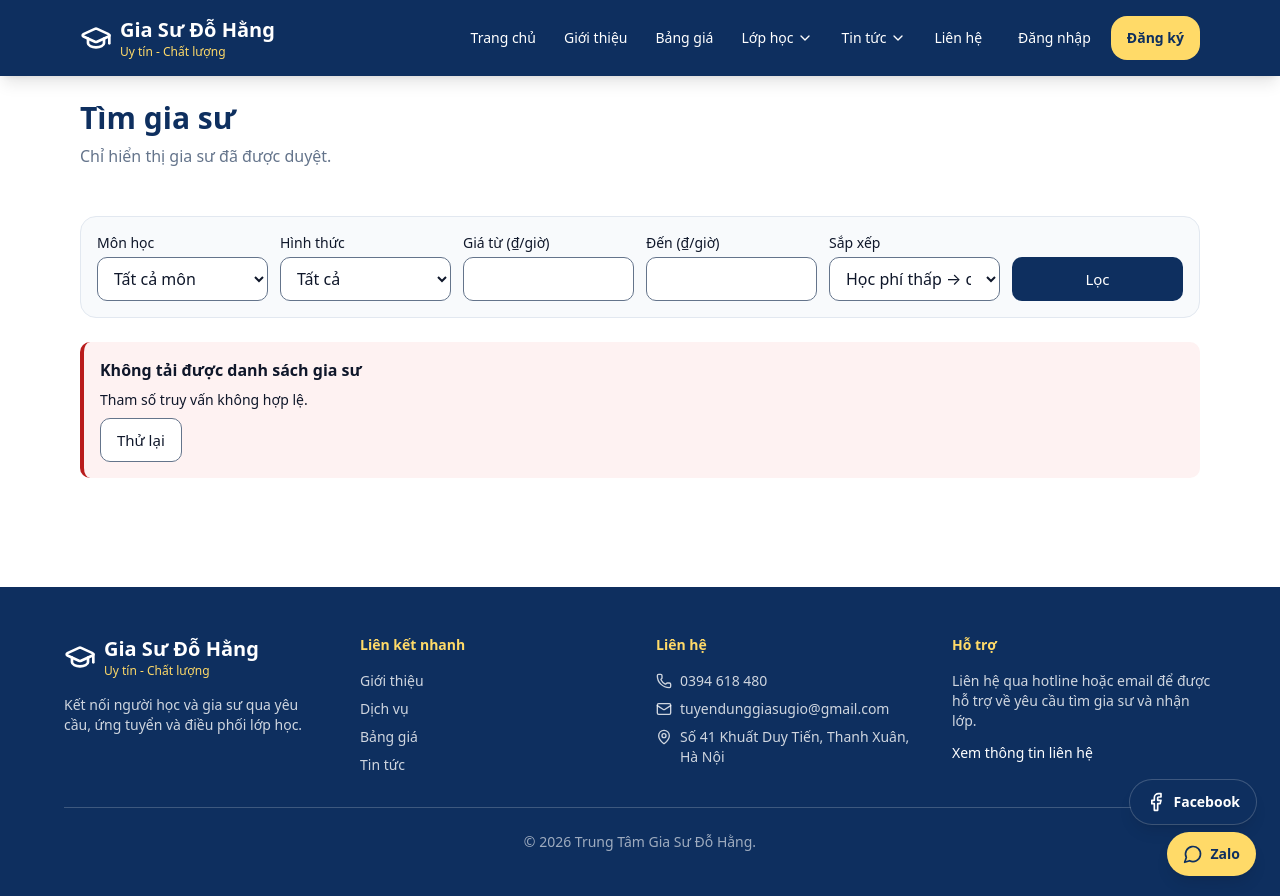
Test: TutorsPage › shows an error with retry
Expected: the text "Không tải được danh sách gia sư" is shown, [100,359,362,381]
Click the button "Thử lại" at (141, 440), box [100,418,182,462]
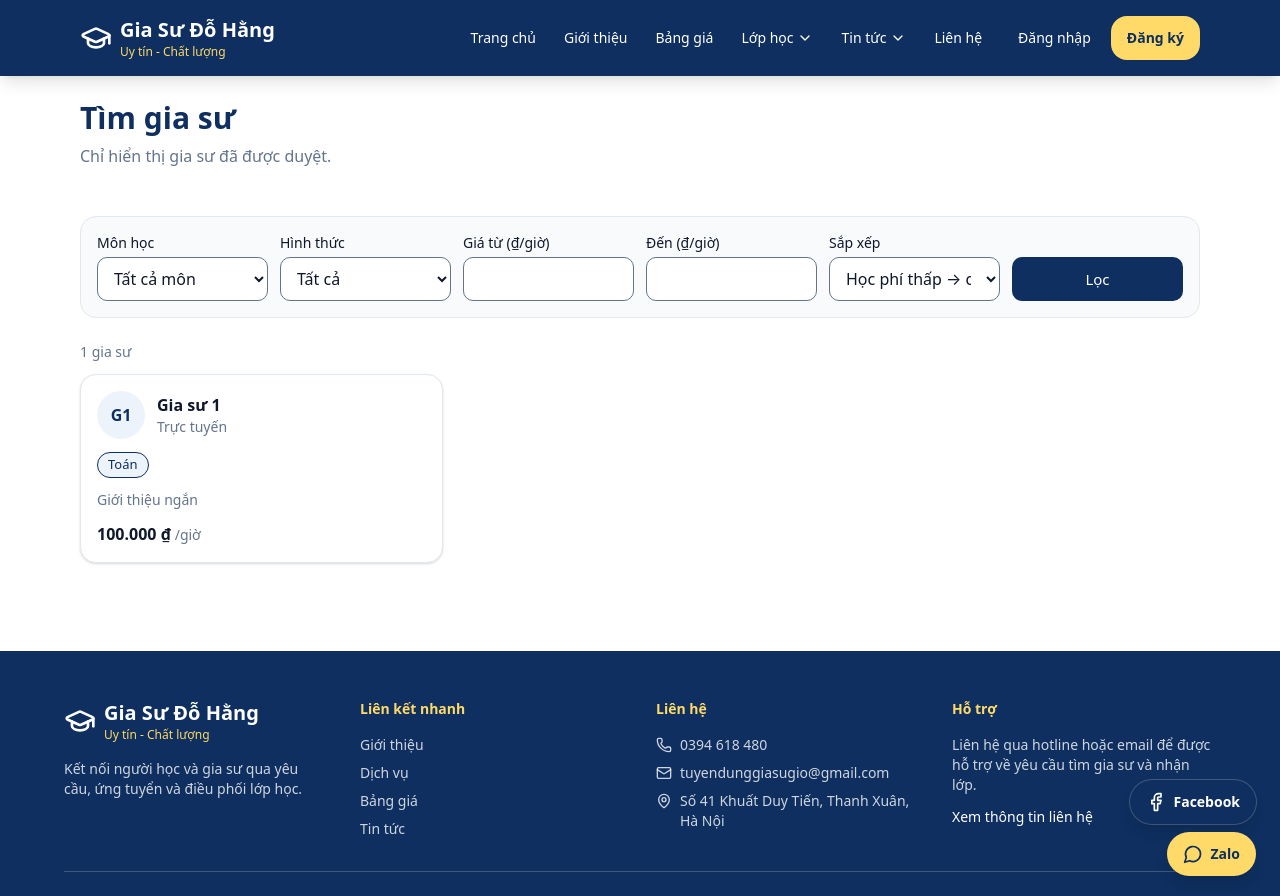
Now the link "Gia sư 1" is shown, box [157,394,221,416]
